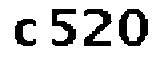0: (117, 5, 151, 50)
2: (83, 5, 114, 51)
5: (47, 5, 81, 50)
c: (12, 17, 37, 50)
